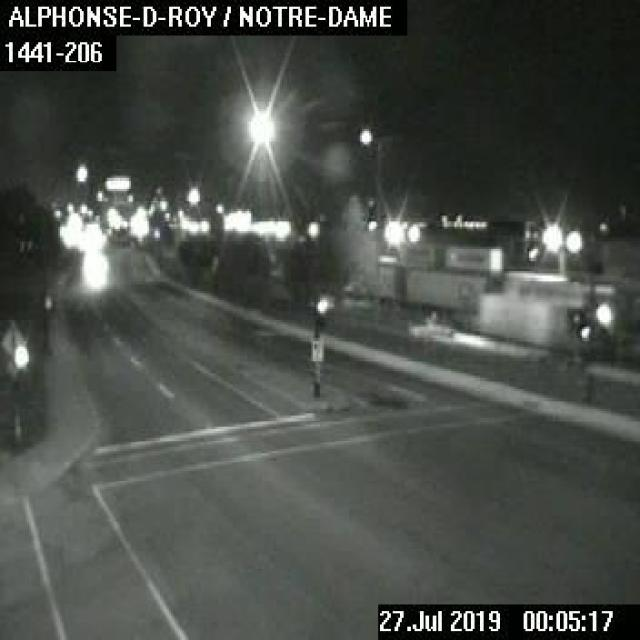vehicle: (66, 220, 108, 291)
